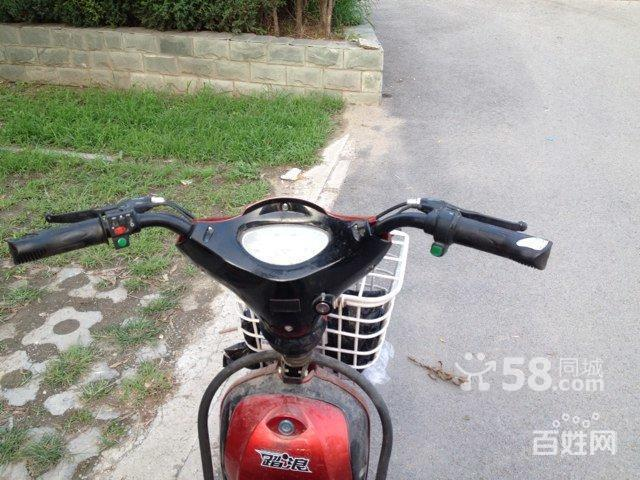电动车: (8, 187, 556, 480)
